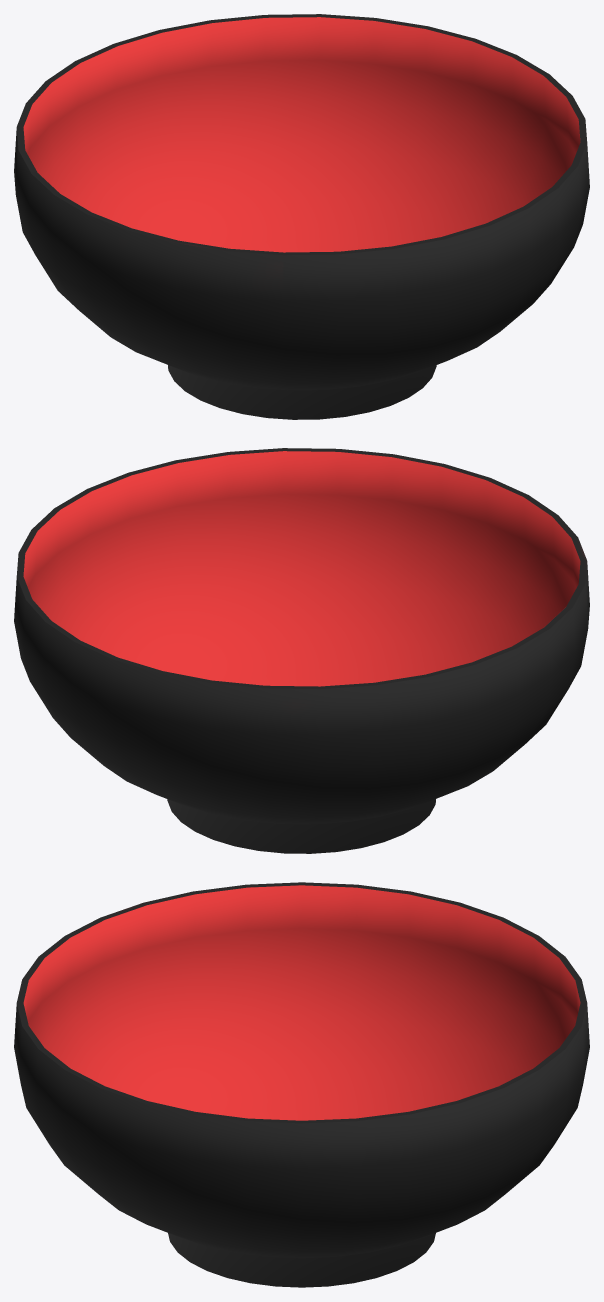
File: bowl scaled.fbx
3 views of the same model, one above another, from view 1: azimuth 30°, elevation 25°; view 2: azimuth 150°, elevation 25°; view 3: azimuth 270°, elevation 25° (orthographic).
Parts seen in each view (by area): view 1: Circle; view 2: Circle; view 3: Circle.
Part boxes in pixels (bbox=[...]): Circle: bbox=[14, 14, 589, 419]; Circle: bbox=[14, 448, 589, 853]; Circle: bbox=[14, 882, 589, 1287].
Size of the model in its own units: 0.2747 by 0.1199 by 0.2747.
Materials: 1 (1 with a texture image).
